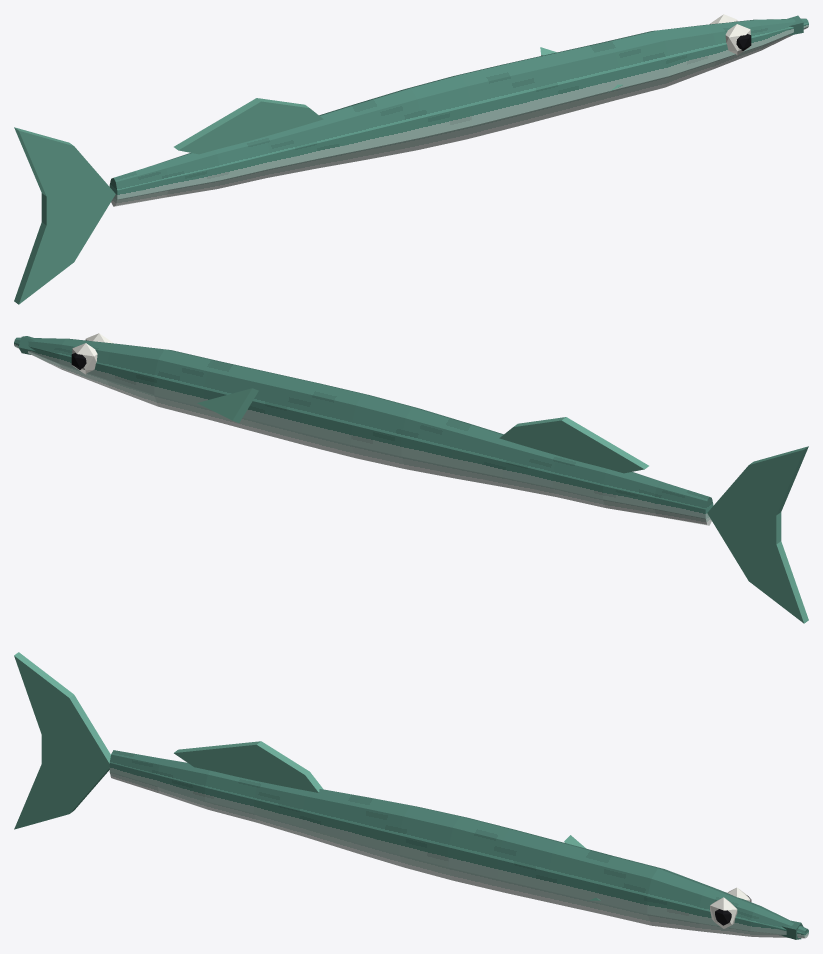
Rendered from garfish.glb.
3 views of the same model, one above another, from view 1: azimuth 30°, elevation 25°; view 2: azimuth 150°, elevation 25°; view 3: azimuth 330°, elevation 25° (orthographic).
Visible parts, largest first — view 1: fish_garfish; view 2: fish_garfish; view 3: fish_garfish.
Boxes of the visible parts, bbox=[...] form: fish_garfish: bbox=[14, 14, 808, 304]; fish_garfish: bbox=[14, 333, 808, 623]; fish_garfish: bbox=[14, 652, 808, 939].
Bounding box in the file's own units: 1.14 × 0.24 × 0.0896.
5 materials, 1 textured.
